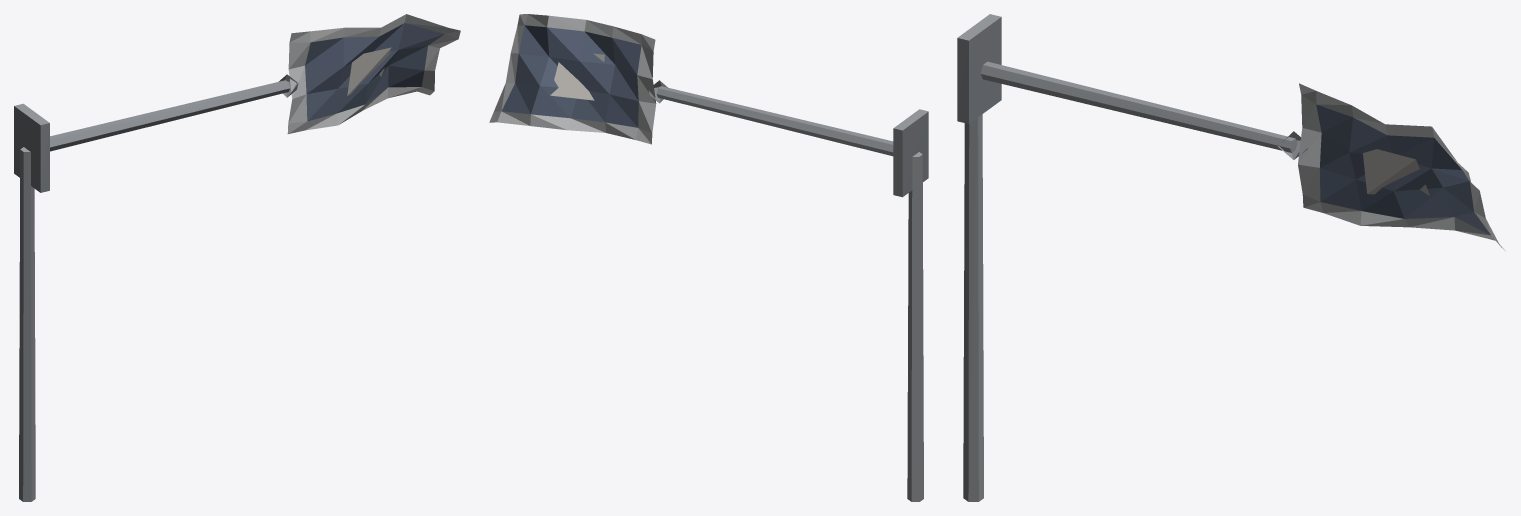
File: flag.notched.dianqi__pole.horizontal.big__armFly.glb
3 views of the same model, side by side, from view 1: azimuth 30°, elevation 25°; view 2: azimuth 150°, elevation 25°; view 3: azimuth 330°, elevation 25° (orthographic). The views are drawn at different scales.
Visible parts, largest first — view 1: flag.notched.dianqi; view 2: flag.notched.dianqi; view 3: flag.notched.dianqi.
Boxes of the visible parts, bbox=[...] form: flag.notched.dianqi: bbox=[14, 14, 460, 501]; flag.notched.dianqi: bbox=[489, 14, 928, 501]; flag.notched.dianqi: bbox=[957, 14, 1505, 501].
Size of the model in its own units: 4.06 by 3.67 by 0.5532.
